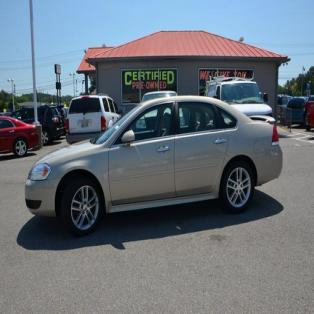Auto: (25, 95, 284, 236)
